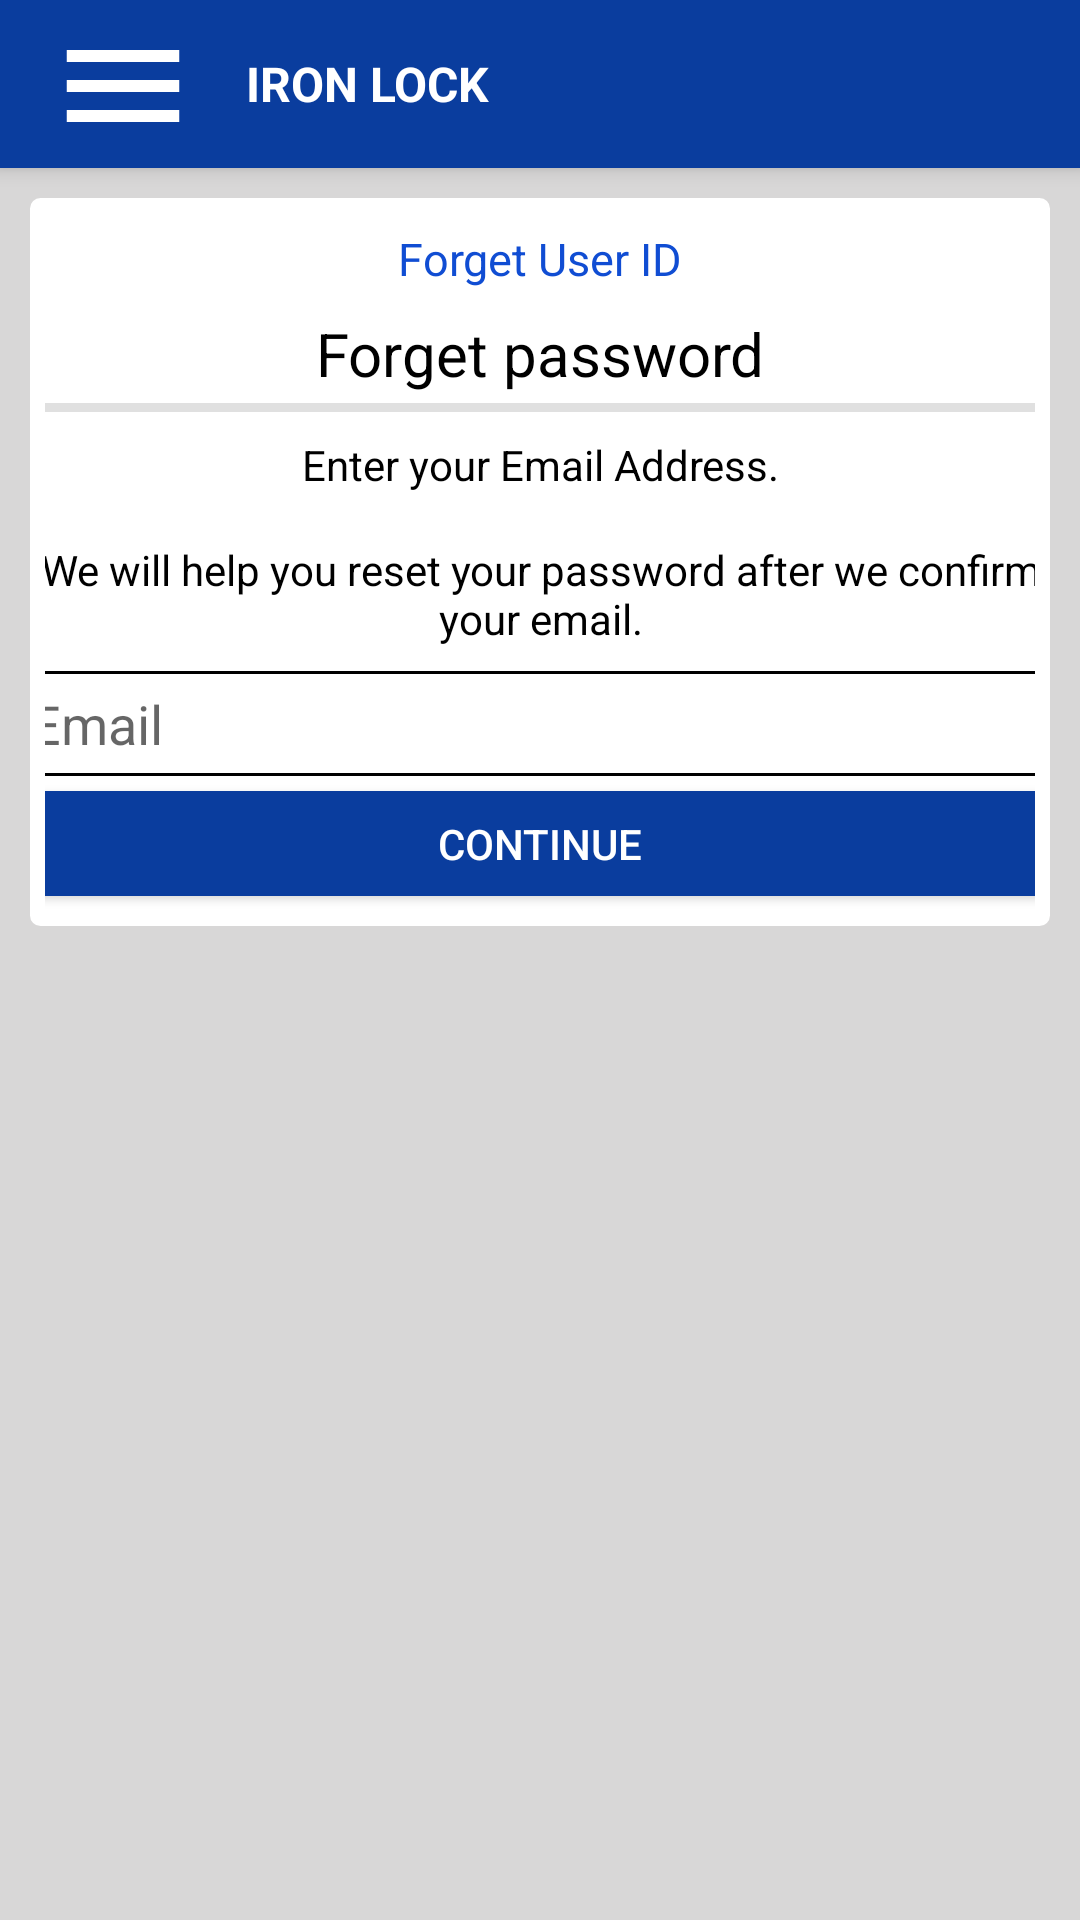

Icons on this 1080w x 1920h Android screen, each with its box as (x1, y1, x2, y2):
menu: (66, 50, 180, 122)
